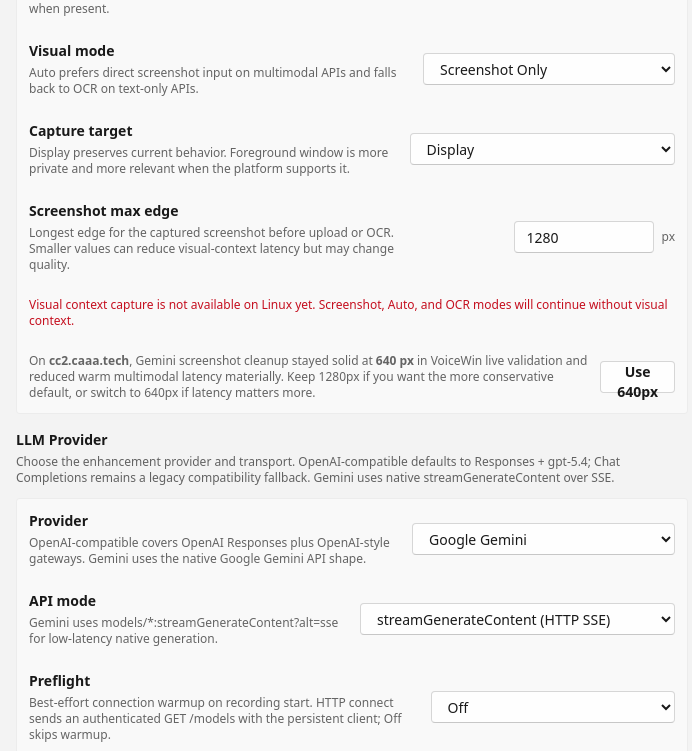
SettingsPage loading and local model status › recommends the compact Gemini screenshot size on the validated cc2 gateway
This screenshot has width=692, height=751.
(page scrolled)
Click the button "Use 640px": (638, 377) [600,361,675,393]
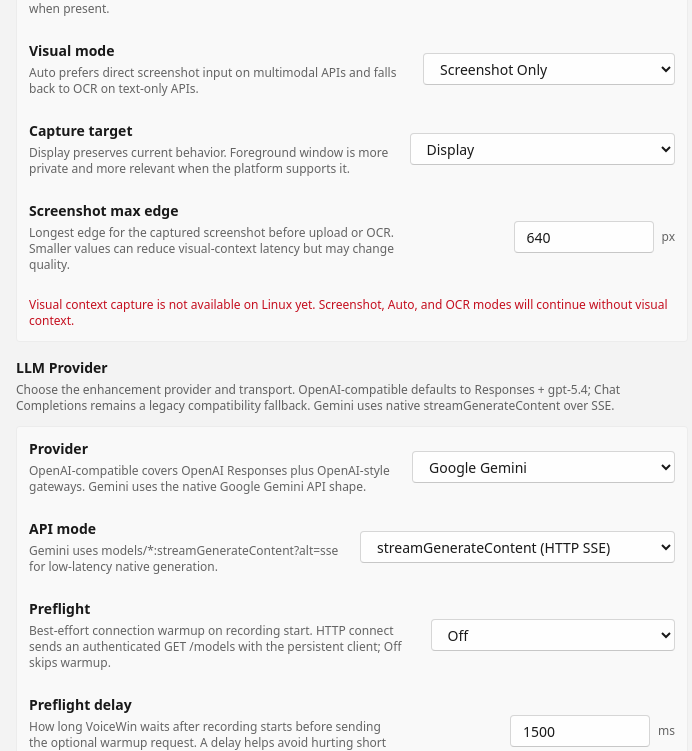
Expected: the number field showing "640" is shown, [514,221,654,253]
